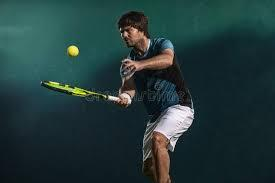ball_tennis: (67, 45, 79, 58)
